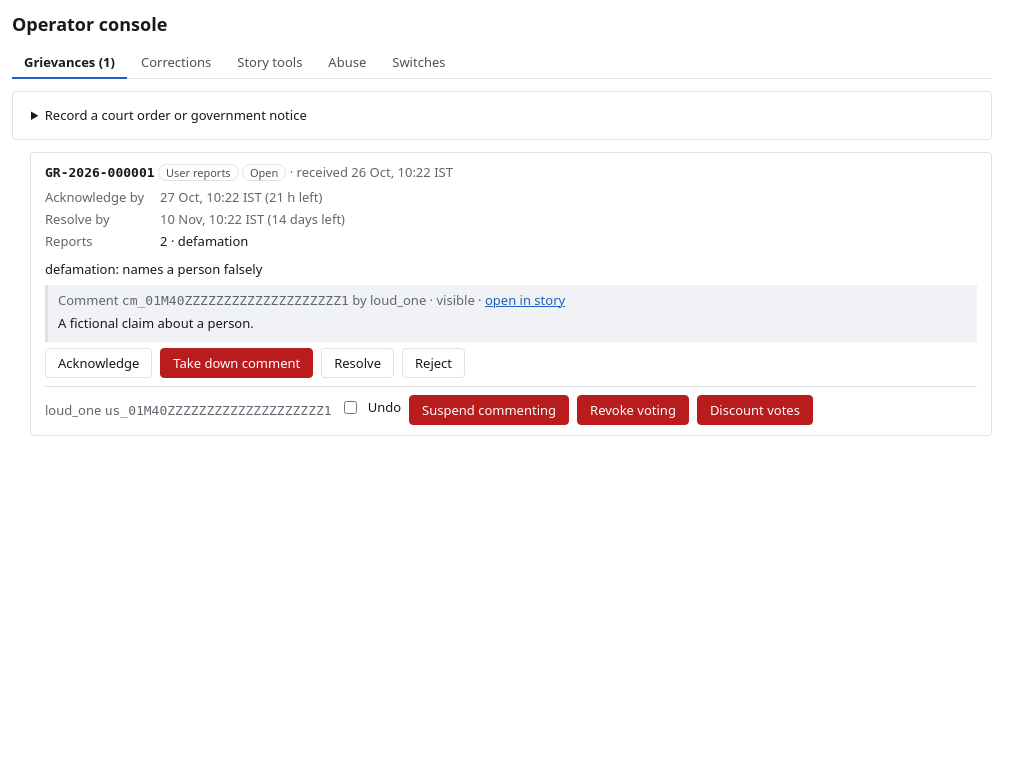
Test case: operator console (PRD-006 §5, PRD-002 US-002.11, PRD-004 US-004.4 AC-5) › every audited action needs a reason before it can be confirmed
Click the button "Suspend commenting" at (489, 410), box [409, 395, 569, 425]
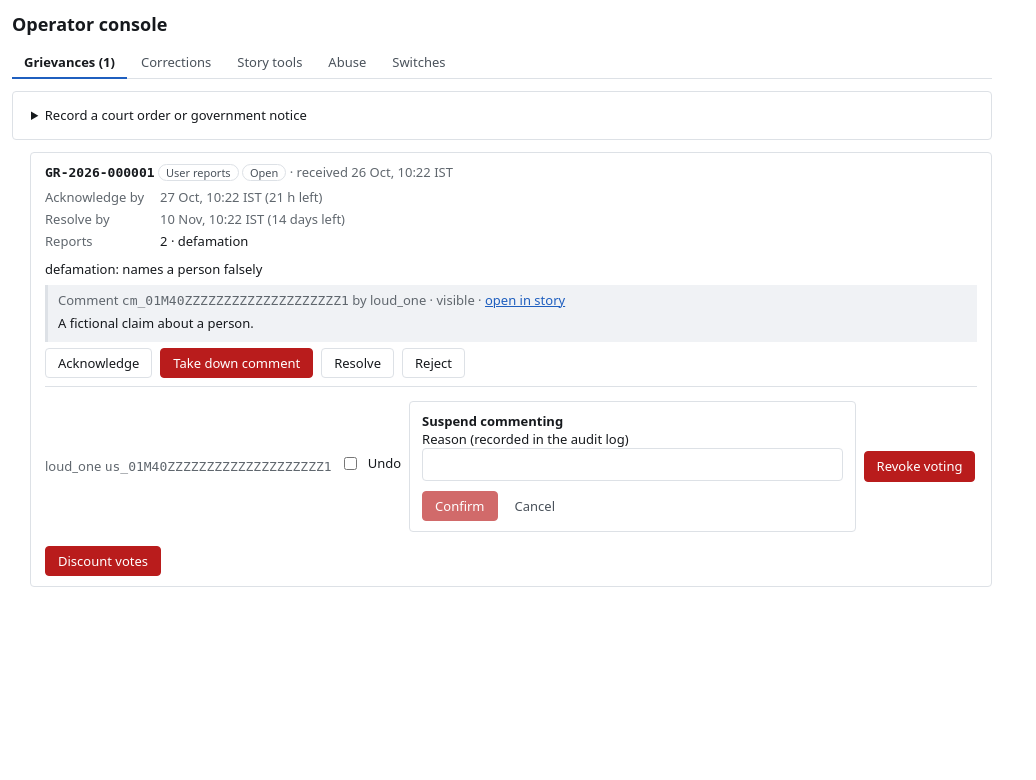
Now the button "Confirm" is disabled, box [422, 491, 498, 521]
Type "Upheld spam removals." into the field labelled "Reason (recorded in the audit log)" at (632, 464), box [422, 448, 842, 481]
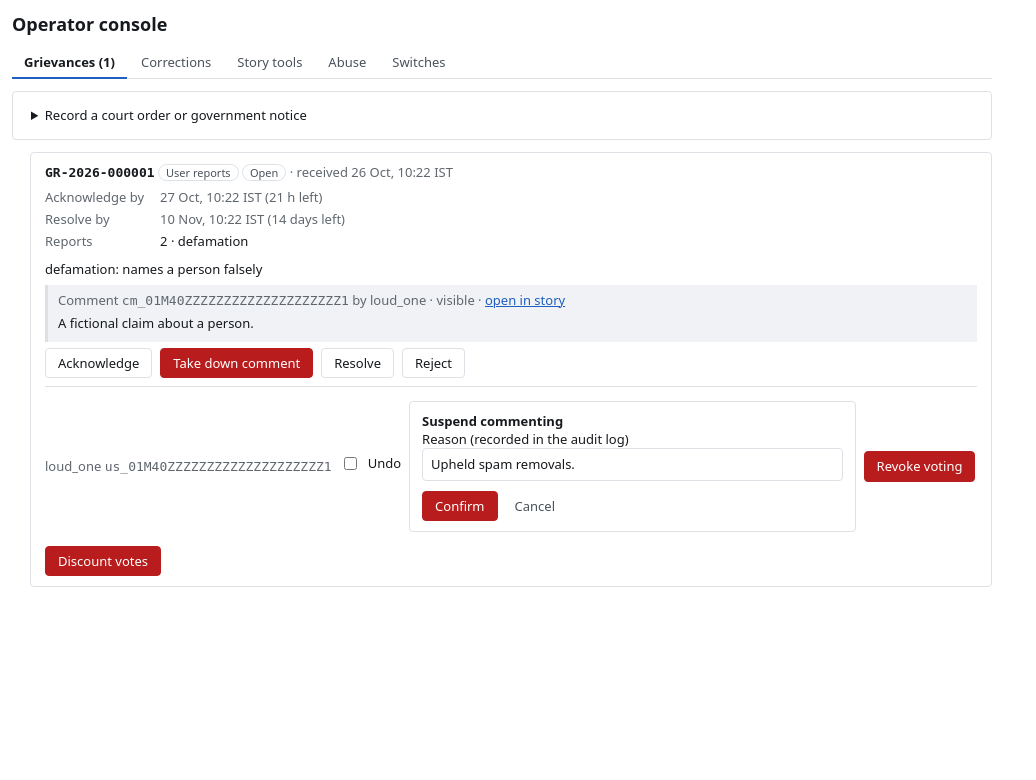
Click the button "Confirm" at (460, 506), box [422, 491, 498, 521]
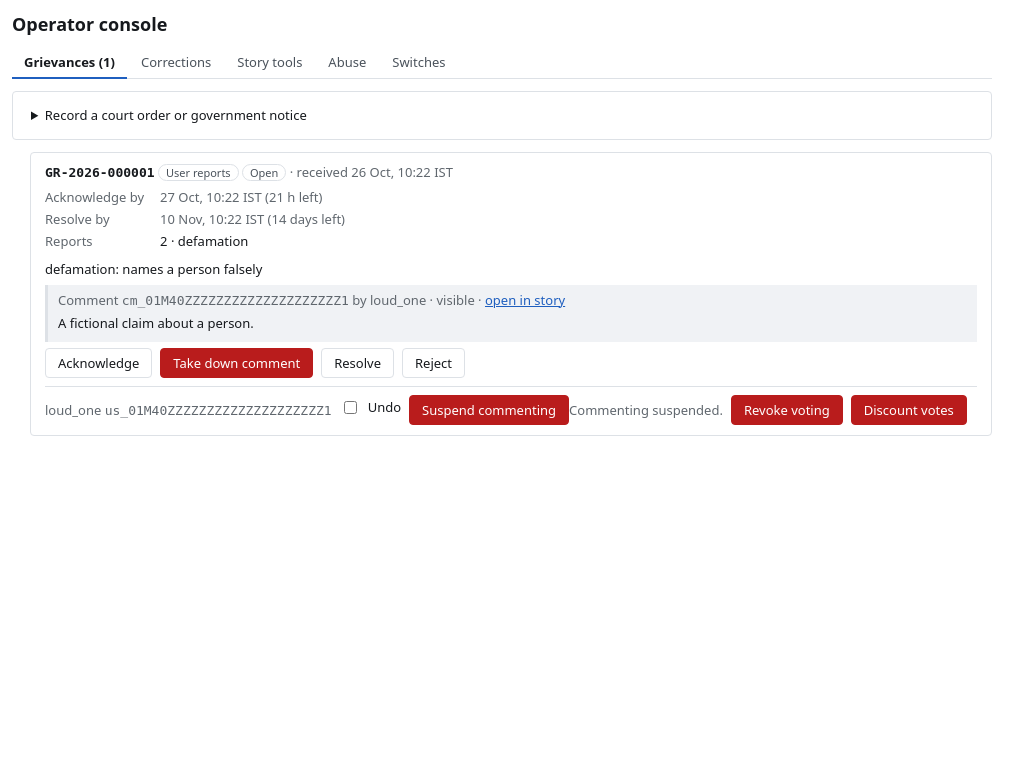
Now the text "Commenting suspended." is shown, box [569, 401, 723, 419]
